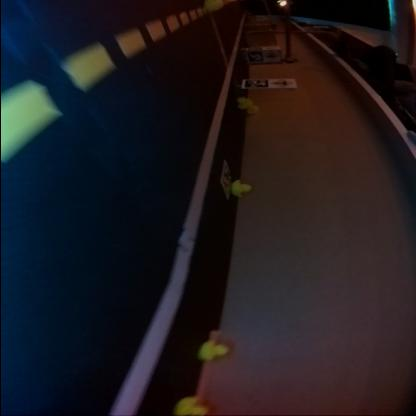Duckie: (173, 396, 208, 415), (200, 340, 228, 360), (232, 179, 252, 193), (237, 95, 252, 109)
Intersection sign: (270, 78, 294, 86)
QR code: (220, 158, 232, 198), (243, 78, 267, 88)
